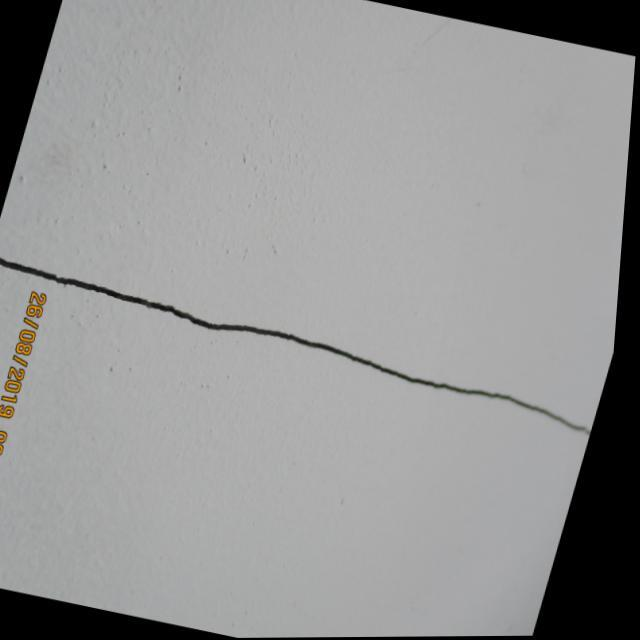Crack: (58, 271, 577, 431)
